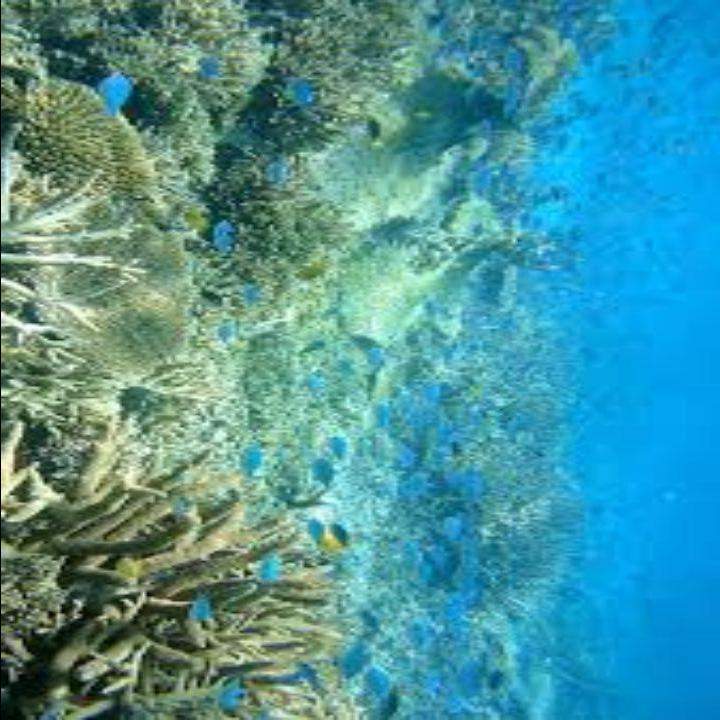Healthy Coral: (11, 3, 490, 719)
